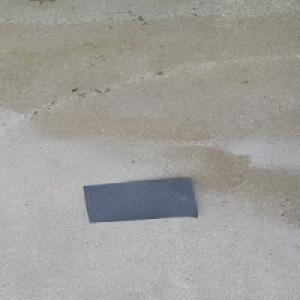PaintChip: (83, 177, 200, 223)
